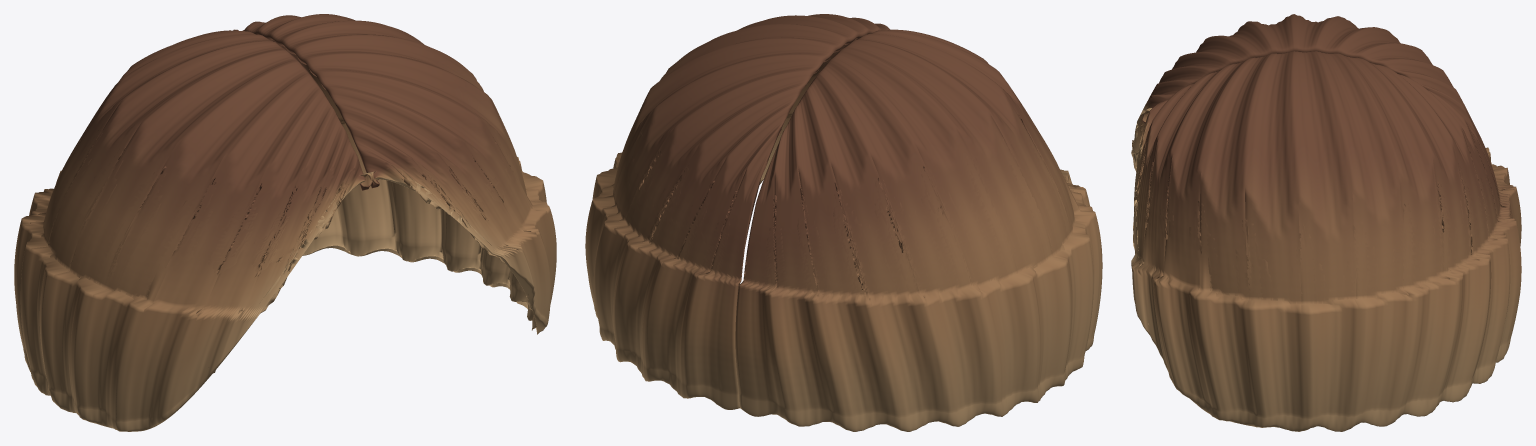
Rendered from Ombre-3c310fe1261f253-hair.glb.
3 renders of one model, left to right at view 1: azimuth 30°, elevation 25°; view 2: azimuth 150°, elevation 25°; view 3: azimuth 270°, elevation 25°, orthographic. The views are drawn at different scales.
Visible parts, largest first — view 1: 226 hair / Hair252 / flowing sculpt middle.001; view 2: 226 hair / Hair252 / flowing sculpt middle.001; view 3: 226 hair / Hair252 / flowing sculpt middle.001.
Boxes of the visible parts, x1=… form: 226 hair / Hair252 / flowing sculpt middle.001: x1=14, y1=14, x2=556, y2=431; 226 hair / Hair252 / flowing sculpt middle.001: x1=585, y1=14, x2=1102, y2=431; 226 hair / Hair252 / flowing sculpt middle.001: x1=1131, y1=14, x2=1521, y2=431.
Bounding box in the file's own units: 1.06 × 0.6587 × 0.8121.
Materials: 1 (1 with a texture image).
